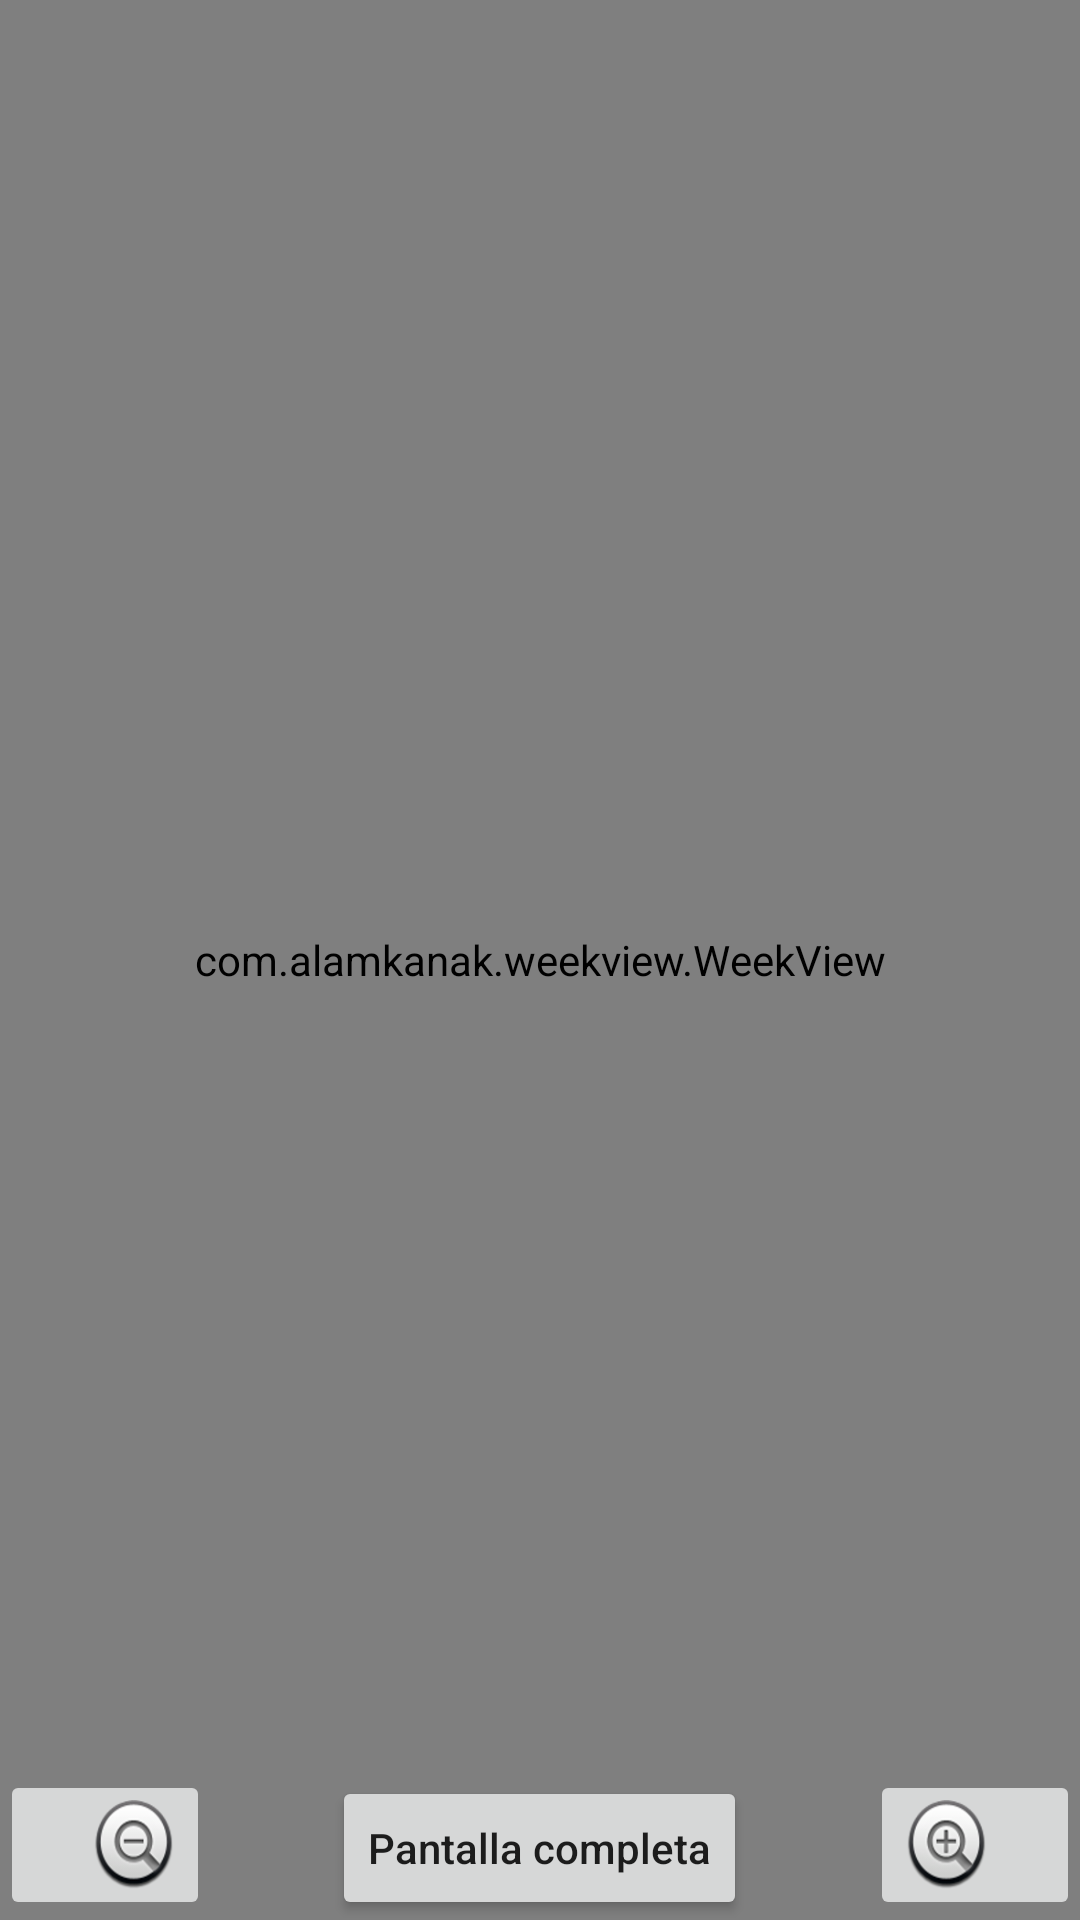

Icon bounding boxes for this 1080 x 1920 phone screenshot, format (x1, y1, x2, y2):
minus: (12, 1788, 198, 1902)
plus: (882, 1788, 1068, 1902)
